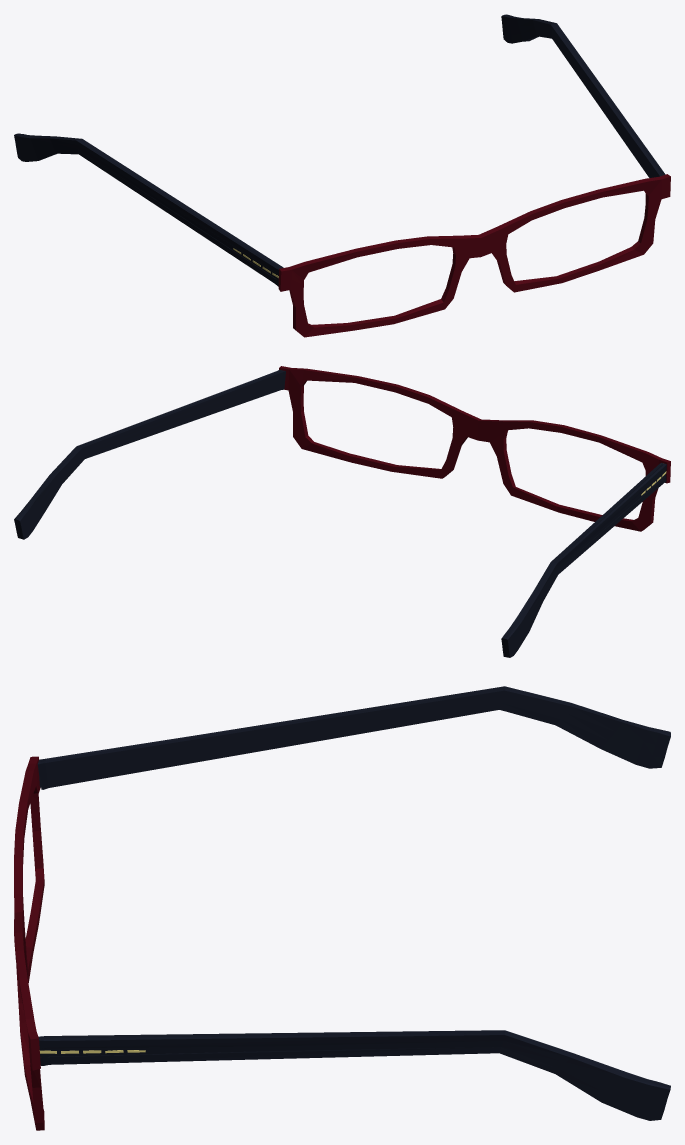
File: mhw_spamrakuen_sagerfrogs_glasses_02.glb
3 renders of one model, top to bottom at view 1: azimuth 30°, elevation 25°; view 2: azimuth 150°, elevation 25°; view 3: azimuth 270°, elevation 25°, orthographic. The views are drawn at different scales.
Parts seen in each view (by area): view 1: mhw_spamrakuen_sagerfrogs_glasses_02; view 2: mhw_spamrakuen_sagerfrogs_glasses_02; view 3: mhw_spamrakuen_sagerfrogs_glasses_02.
Boxes of the visible parts, box(x1,y1,x2,y2) form: mhw_spamrakuen_sagerfrogs_glasses_02: box(14, 14, 670, 337); mhw_spamrakuen_sagerfrogs_glasses_02: box(14, 366, 670, 657); mhw_spamrakuen_sagerfrogs_glasses_02: box(14, 686, 670, 1130).
Size of the model in its own units: 0.1581 by 0.0318 by 0.1226.
1 material, 1 textured.
